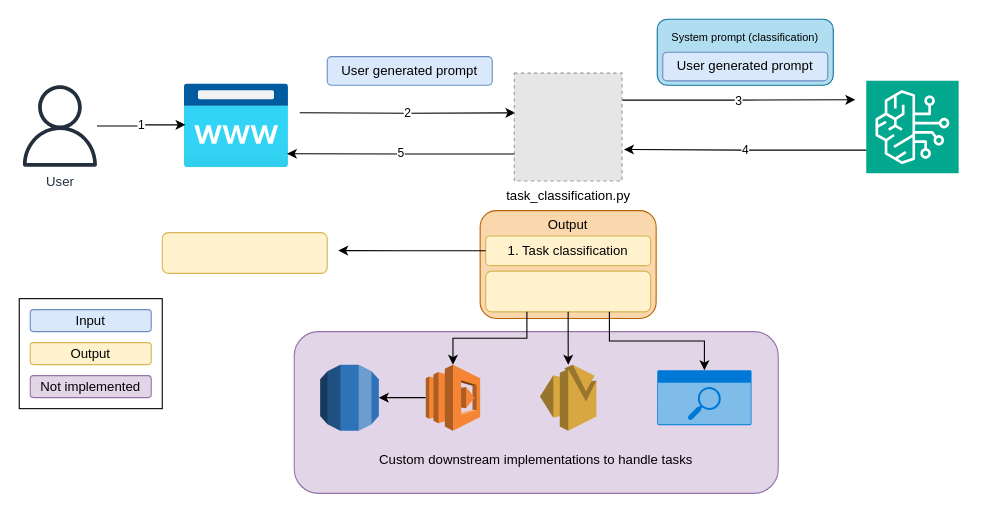
Some shapes in this 981 by 513 pixel diagram are drawn without their labels. Grey dashed boxes stand in for pictures. The shapes that lost their labels are listed below. From the top down, each one's centre as x and y in pixels, then its label:
pixel 236 125: Streamlit app.py
pixel 912 126: Amazon Bedrock
pixel 244 252: Display modal/visual confirmation of chosen task
pixel 568 291: 2. Processed workflow summary from input
pixel 704 397: Search
